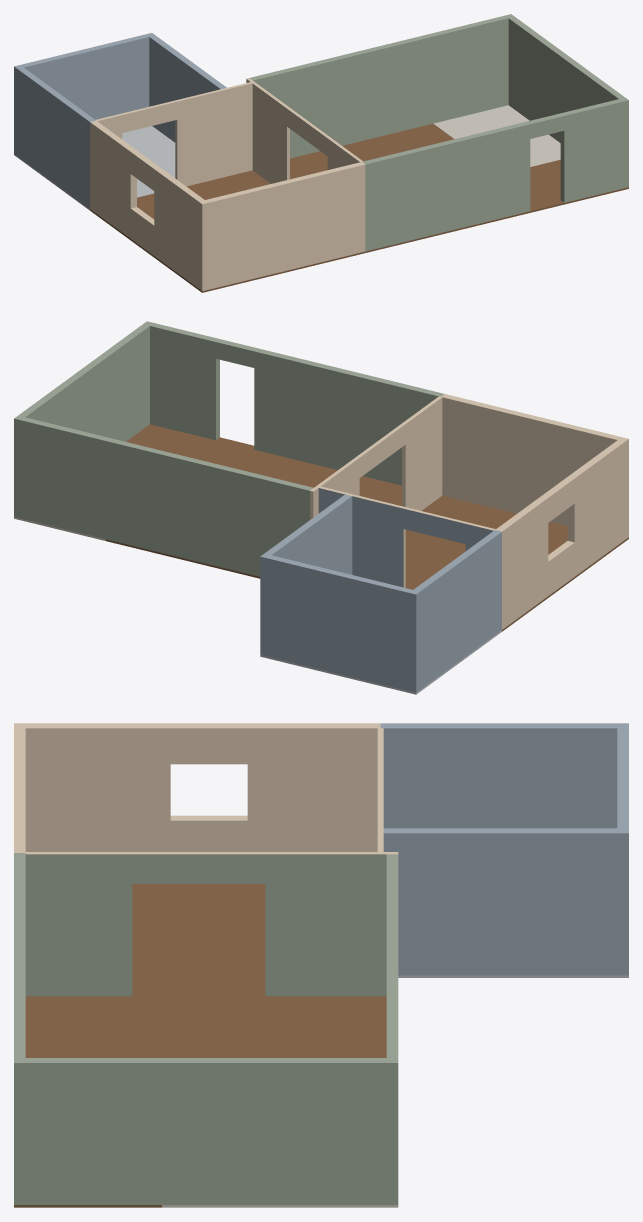
Rendered from Paredes.fbx.
The picture shows the model from 3 angles, top to bottom: view 1: azimuth 30°, elevation 25°; view 2: azimuth 150°, elevation 25°; view 3: azimuth 270°, elevation 25°; orthographic projection. The views are drawn at different scales.
Parts seen in each view (by area): view 1: Muro_Sur_Estar_Puerta, Muro_Norte_Estar_Ciego, Muro_Sur_Dormitorio, Muro_Oeste_Dormitorio_Ventana, Tabique_Dormitorio_Bano, Muro_Oeste_Bano, Muro_Norte_Bano, Muro_Este_Cocina, Tabique_Dormitorio_Estar, Piso_Estar_Madera, Muro_Este_Bano, Piso_Cocina_Porcelanato (+2 smaller); view 2: Muro_Norte_Estar_Ciego, Muro_Sur_Estar_Puerta, Muro_Norte_Bano, Muro_Sur_Dormitorio, Muro_Oeste_Dormitorio_Ventana, Muro_Oeste_Bano, Muro_Este_Cocina, Tabique_Dormitorio_Bano, Tabique_Dormitorio_Estar, Piso_Estar_Madera, Piso_Dormitorio_Madera, Muro_Este_Bano (+1 smaller); view 3: Muro_Este_Cocina, Muro_Oeste_Dormitorio_Ventana, Tabique_Dormitorio_Estar, Muro_Este_Bano, Muro_Oeste_Bano, Piso_Estar_Madera, Piso_Dormitorio_Madera, Muro_Sur_Estar_Puerta, Muro_Norte_Bano, Muro_Norte_Estar_Ciego, Muro_Sur_Dormitorio, Tabique_Dormitorio_Bano (+2 smaller).
Part boxes in pixels (bbox=[...]): Muro_Sur_Estar_Puerta: bbox=[362, 97, 628, 251]; Muro_Norte_Estar_Ciego: bbox=[250, 15, 508, 158]; Muro_Sur_Dormitorio: bbox=[198, 162, 365, 291]; Muro_Oeste_Dormitorio_Ventana: bbox=[90, 120, 204, 288]; Tabique_Dormitorio_Bano: bbox=[96, 82, 252, 186]; Muro_Oeste_Bano: bbox=[14, 65, 95, 208]; Muro_Norte_Bano: bbox=[21, 33, 155, 119]; Muro_Este_Cocina: bbox=[505, 14, 624, 142]; Tabique_Dormitorio_Estar: bbox=[246, 78, 362, 183]; Piso_Estar_Madera: bbox=[290, 123, 628, 252]; Muro_Este_Bano: bbox=[149, 35, 226, 142]; Piso_Cocina_Porcelanato: bbox=[433, 105, 560, 166]; Muro_Norte_Estar_Ciego: bbox=[21, 417, 313, 576]; Muro_Sur_Estar_Puerta: bbox=[143, 321, 444, 485]; Muro_Norte_Bano: bbox=[260, 553, 412, 690]; Muro_Sur_Dormitorio: bbox=[441, 394, 628, 539]; Muro_Oeste_Dormitorio_Ventana: bbox=[495, 440, 624, 629]; Muro_Oeste_Bano: bbox=[409, 530, 501, 692]; Muro_Este_Cocina: bbox=[14, 324, 149, 518]; Tabique_Dormitorio_Bano: bbox=[318, 486, 495, 587]; Tabique_Dormitorio_Estar: bbox=[310, 396, 442, 519]; Piso_Estar_Madera: bbox=[106, 424, 401, 578]; Piso_Dormitorio_Madera: bbox=[405, 495, 628, 631]; Muro_Este_Bano: bbox=[264, 494, 352, 574]; Muro_Este_Cocina: bbox=[25, 1058, 398, 1204]; Muro_Oeste_Dormitorio_Ventana: bbox=[25, 723, 380, 851]; Tabique_Dormitorio_Estar: bbox=[25, 852, 398, 996]; Muro_Este_Bano: bbox=[383, 828, 617, 975]; Muro_Oeste_Bano: bbox=[380, 723, 628, 828]; Piso_Estar_Madera: bbox=[14, 995, 386, 1207]; Piso_Dormitorio_Madera: bbox=[132, 884, 265, 995]; Muro_Sur_Estar_Puerta: bbox=[14, 853, 25, 1204]; Muro_Norte_Bano: bbox=[617, 728, 628, 975]; Muro_Norte_Estar_Ciego: bbox=[386, 854, 398, 1057]; Muro_Sur_Dormitorio: bbox=[14, 723, 25, 852]; Tabique_Dormitorio_Bano: bbox=[377, 728, 383, 851].
Bounding box in the file's own units: 13.6 × 2.7 × 10.4.
